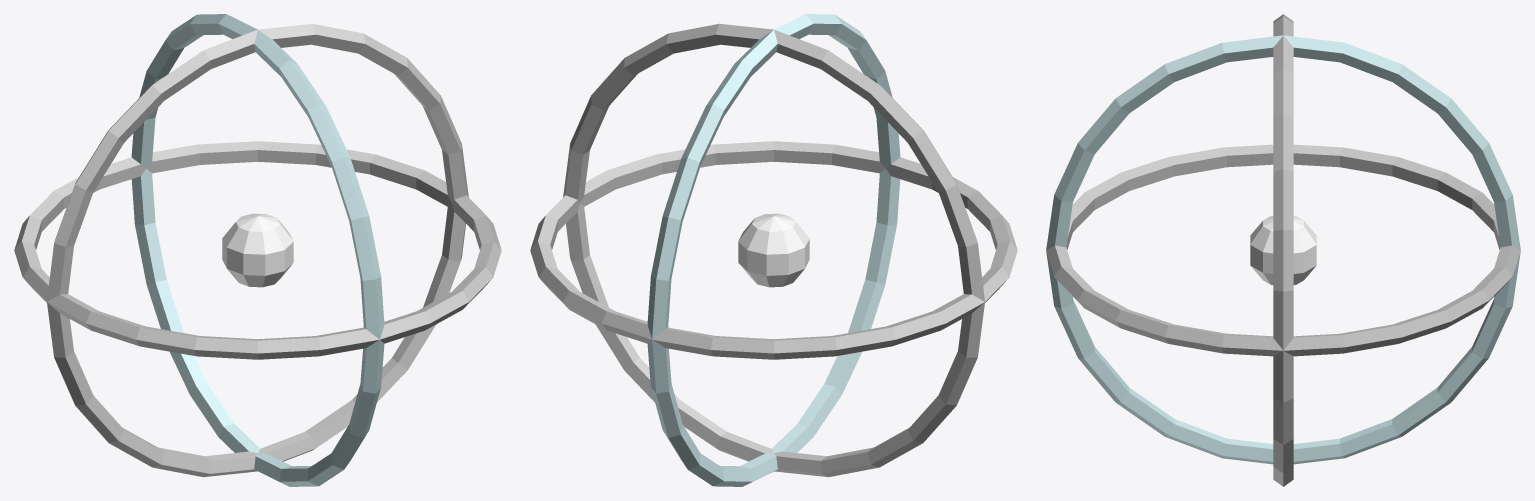
Rendered from holograma_anillos.glb.
The picture shows the model from 3 angles, left to right: view 1: azimuth 30°, elevation 25°; view 2: azimuth 150°, elevation 25°; view 3: azimuth 270°, elevation 25°; orthographic projection. The views are drawn at different scales.
Visible parts, largest first — view 1: holograma_anillos; view 2: holograma_anillos; view 3: holograma_anillos.
Part boxes in pixels (left/top/right/bottom): holograma_anillos: left=14, top=14, right=501, bottom=486; holograma_anillos: left=530, top=14, right=1017, bottom=486; holograma_anillos: left=1046, top=14, right=1520, bottom=486.
Bounding box in the file's own units: 1.68 × 1.68 × 1.68.
